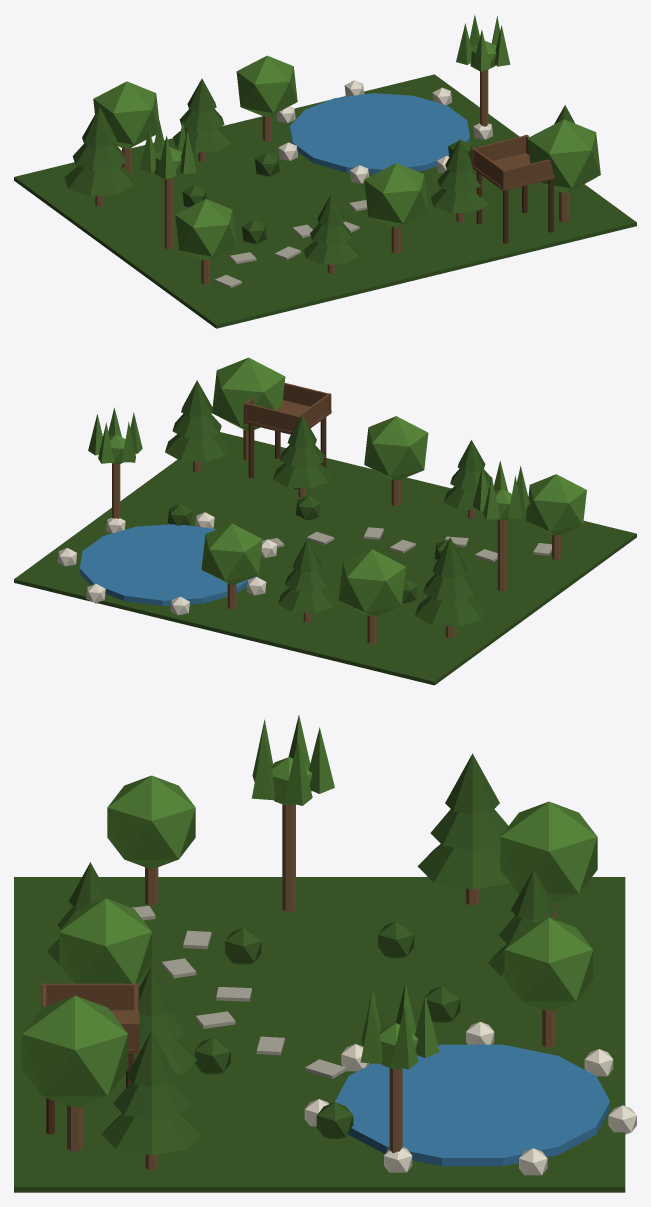
File: landscape.park-nature.glb
The picture shows the model from 3 angles, top to bottom: view 1: azimuth 30°, elevation 25°; view 2: azimuth 150°, elevation 25°; view 3: azimuth 270°, elevation 25°; orthographic projection. The views are drawn at different scales.
Visible parts, largest first — view 1: landscape.park-nature; view 2: landscape.park-nature; view 3: landscape.park-nature.
Part boxes in pixels (box(x1,y1,x2,y2)): landscape.park-nature: box(14, 14, 636, 328); landscape.park-nature: box(14, 357, 636, 685); landscape.park-nature: box(14, 715, 636, 1192).
Size of the model in its own units: 24.15 by 6.9 by 20.38.
